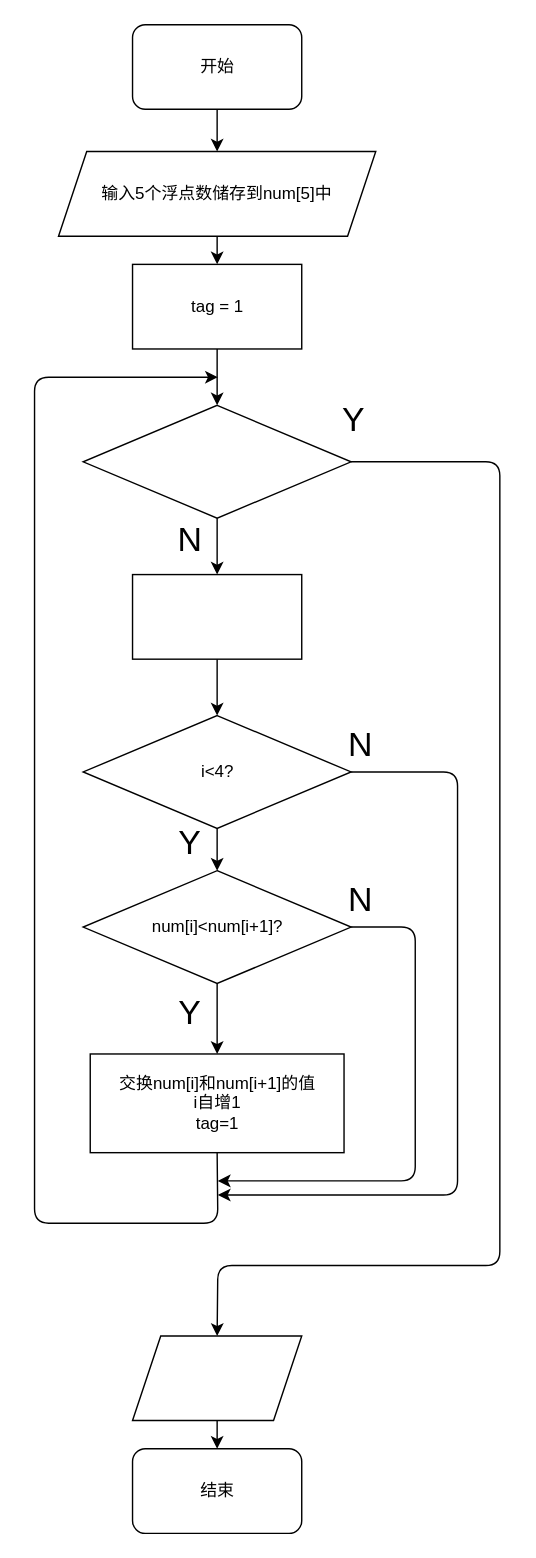
Image size: 536x1558. Some labels were removed from this diagram. Here are the shapes that lost their labels. From the top down, the box of each, then its label:
(82, 404, 351, 518): tag=0 ?
(131, 573, 302, 659): tag=0 i=0
(131, 1335, 302, 1421): 逐个输出sum[5]
